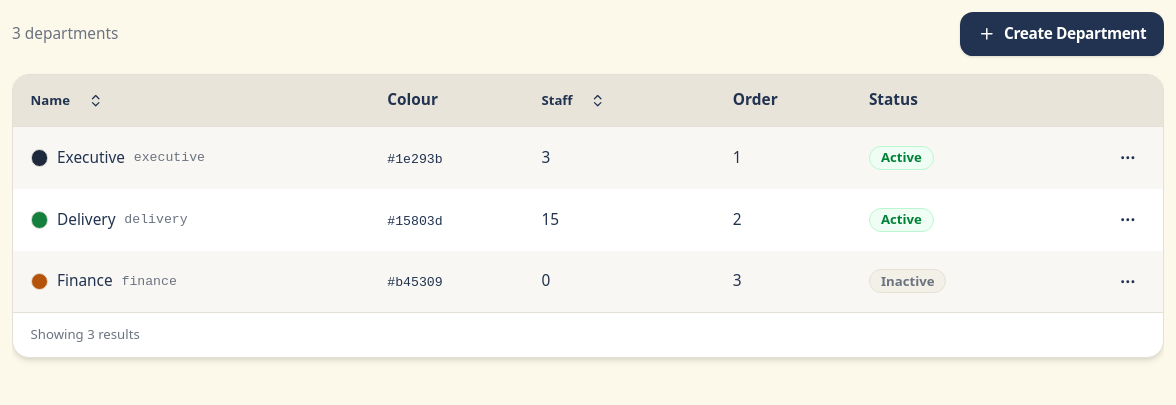
DepartmentManagementContent › shows reactivate option for inactive departments
Note: Open dropdown for Finance (inactive) — 3rd action button
Press the mouse on the button named "Actions for" at (1128, 281), box [1110,264,1145,299]
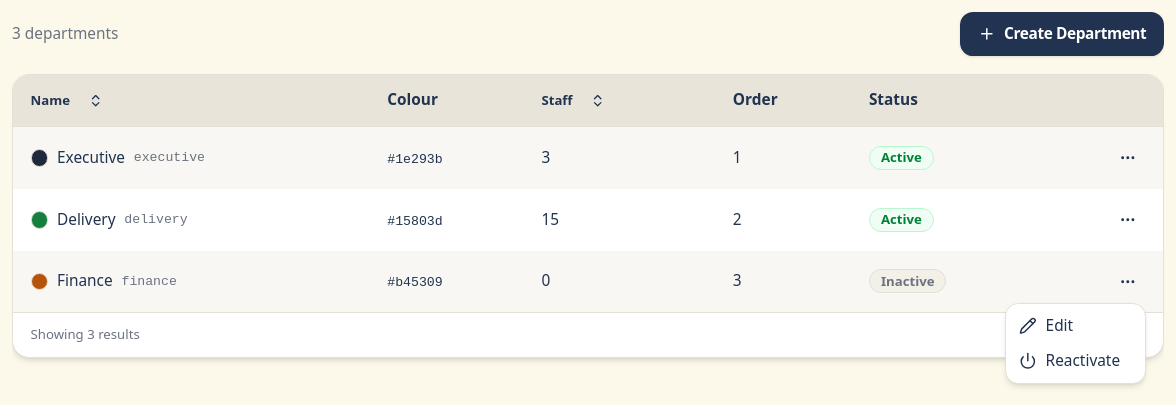
Now the menu item "Reactivate" is shown, box [1019,350,1120,371]
